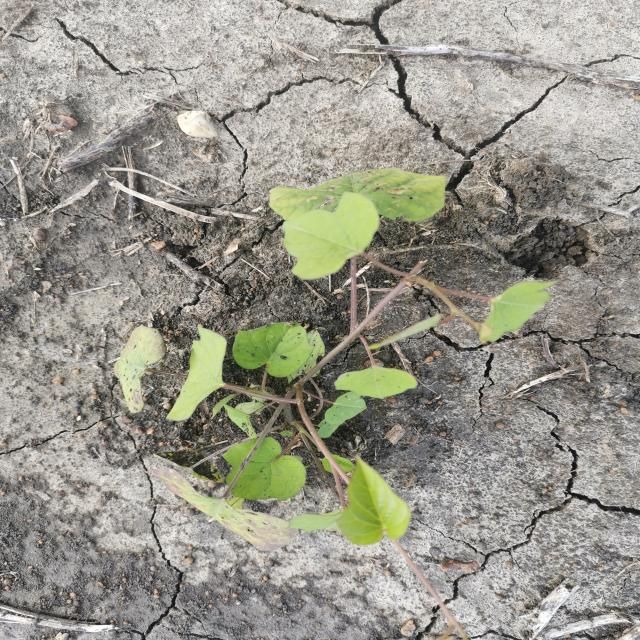MorningGlory: (111, 166, 564, 554)
